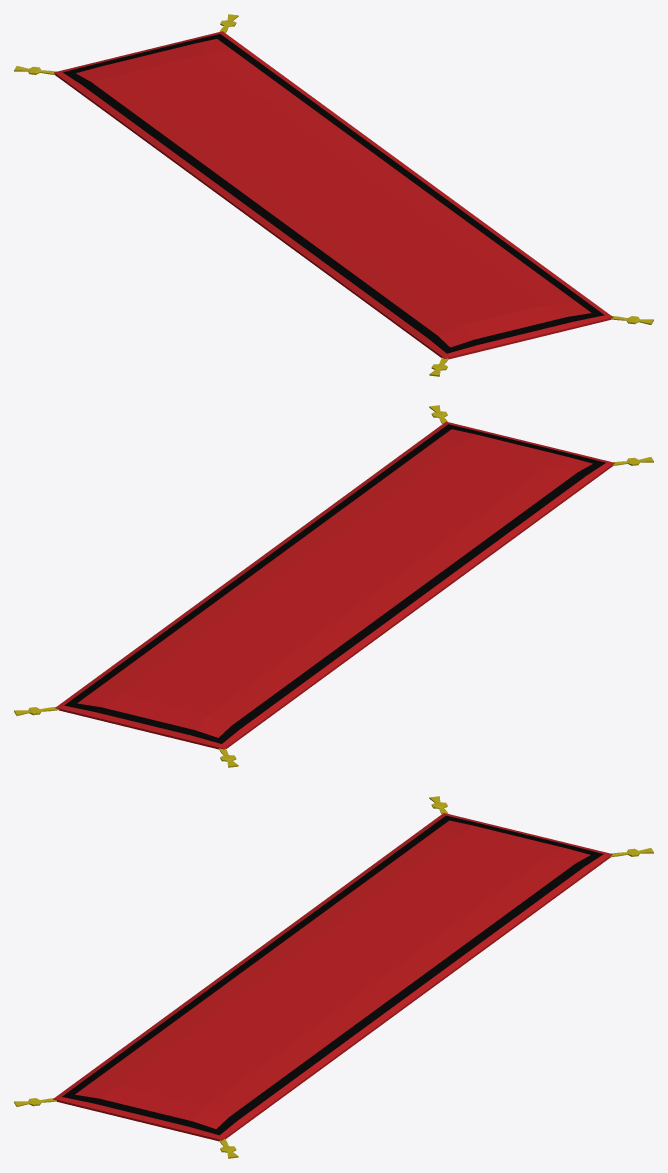
The model's file is Carpet1x4.glb.
The picture shows the model from 3 angles, top to bottom: view 1: azimuth 30°, elevation 25°; view 2: azimuth 150°, elevation 25°; view 3: azimuth 330°, elevation 25°; orthographic projection.
Visible parts, largest first — view 1: Cube; view 2: Cube; view 3: Cube.
Boxes of the visible parts, x1=… form: Cube: x1=14, y1=14, x2=653, y2=376; Cube: x1=14, y1=405, x2=653, y2=767; Cube: x1=14, y1=796, x2=653, y2=1158.
Bounding box in the file's own units: 1.33 × 0.0426 × 4.33.
